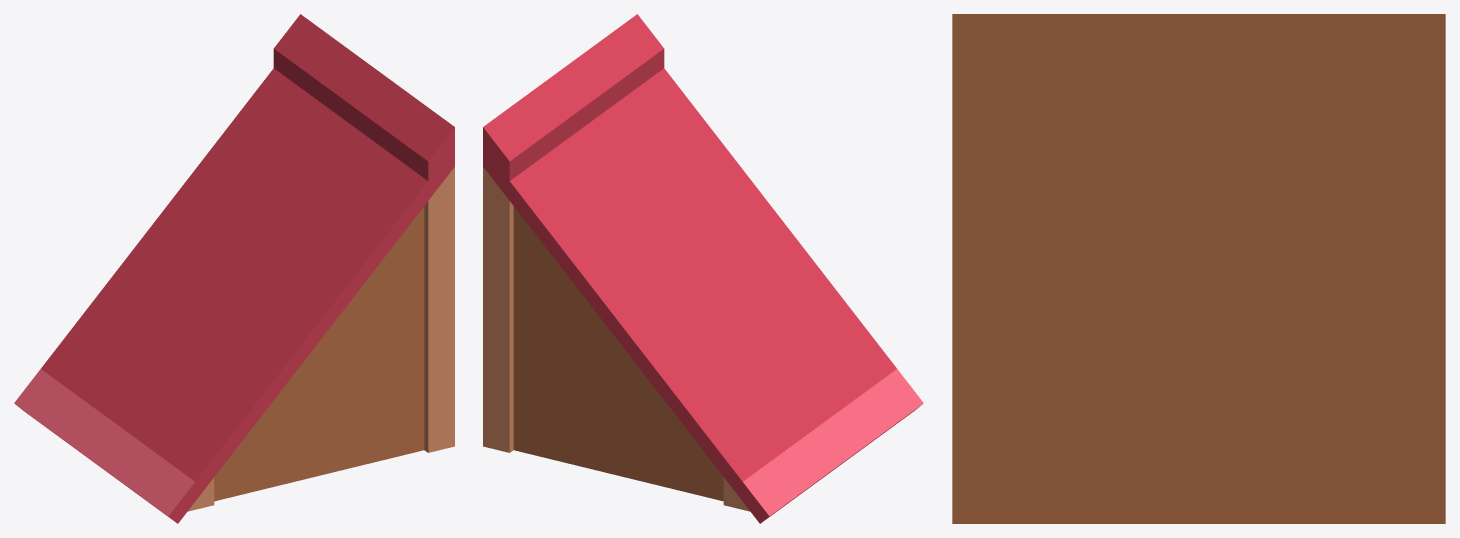
The model's file is roofHigh.fbx.
3 views of the same model, side by side, from view 1: azimuth 30°, elevation 25°; view 2: azimuth 150°, elevation 25°; view 3: azimuth 270°, elevation 25° (orthographic). The views are drawn at different scales.
Parts seen in each view (by area): view 1: roofHigh; view 2: roofHigh; view 3: roofHigh.
Boxes of the visible parts, x1,y1,x2,y2 form: roofHigh: (14, 14, 454, 523); roofHigh: (483, 14, 923, 523); roofHigh: (952, 14, 1445, 523).
Size of the model in its own units: 10.71 by 11.76 by 10.
